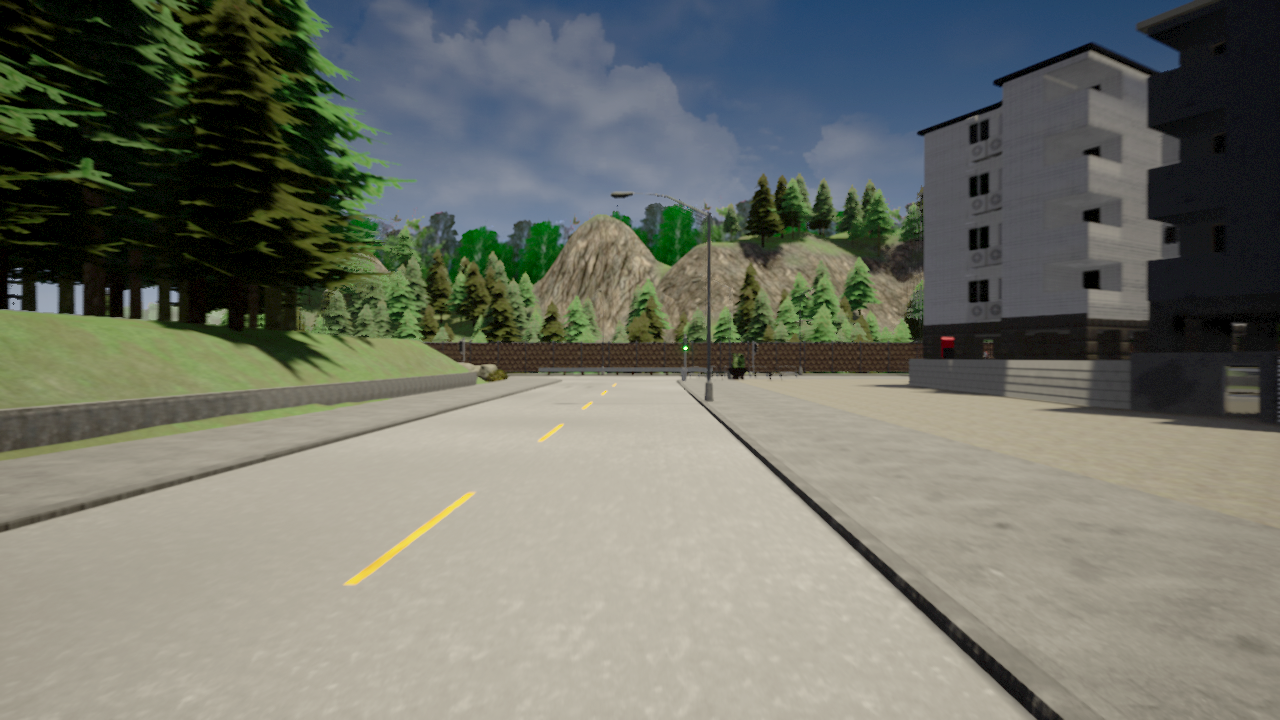green: (682, 337, 689, 351)
